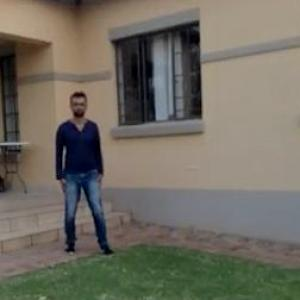follow: (55, 82, 107, 267)
